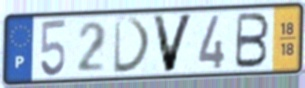2: (76, 20, 109, 74)
4: (196, 13, 227, 71)
5: (39, 18, 67, 78)
B: (232, 11, 271, 70)
D: (112, 16, 154, 76)
V: (150, 12, 197, 75)
